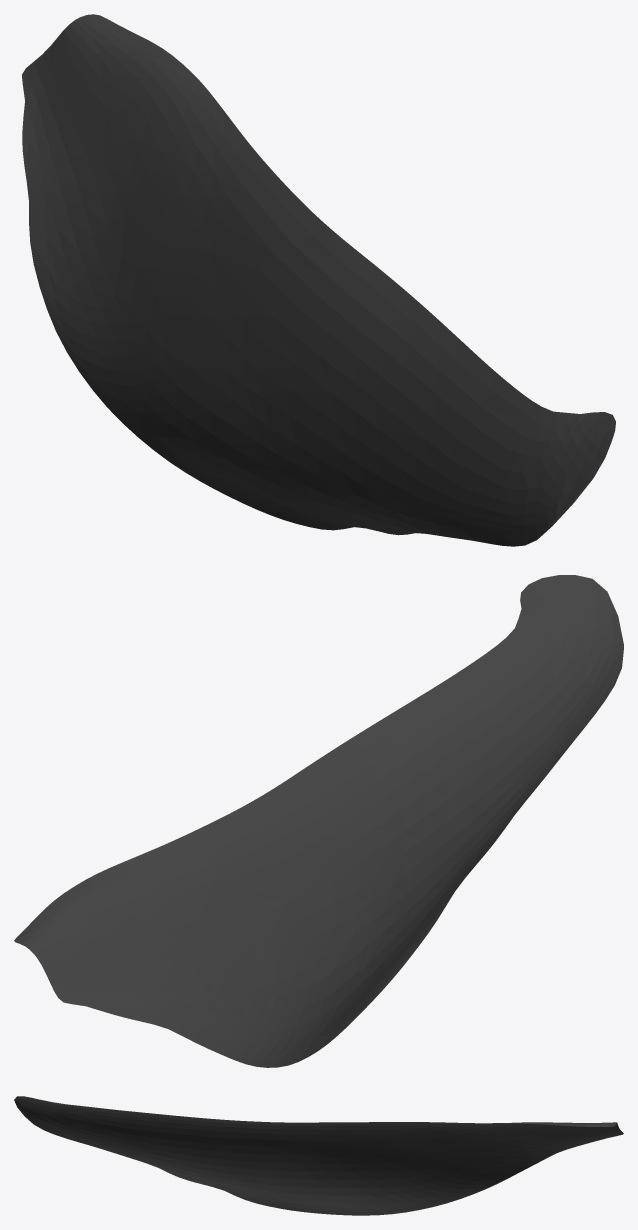
The model's file is Scapula_fossa_supraspinous.glb.
The picture shows the model from 3 angles, top to bottom: view 1: azimuth 30°, elevation 25°; view 2: azimuth 150°, elevation 25°; view 3: azimuth 270°, elevation 25°; orthographic projection. The views are drawn at different scales.
Visible parts, largest first — view 1: Scapula_fossa_supraspinous; view 2: Scapula_fossa_supraspinous; view 3: Scapula_fossa_supraspinous.
Boxes of the visible parts, x1=… form: Scapula_fossa_supraspinous: x1=22, y1=14, x2=615, y2=546; Scapula_fossa_supraspinous: x1=14, y1=575, x2=623, y2=1067; Scapula_fossa_supraspinous: x1=14, y1=1096, x2=623, y2=1215.
Size of the model in its own units: 0.288 by 0.451 by 1.81.
1 material, 1 textured.
